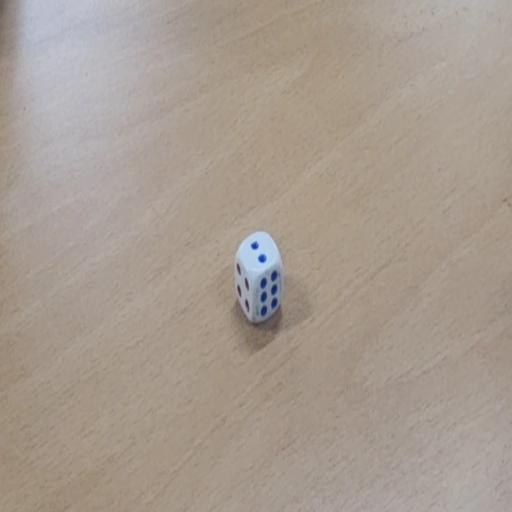dice_2: (233, 229, 285, 325)
